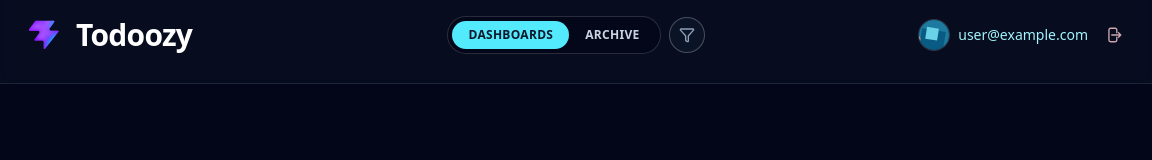
Scenario: AppHeader tag filters › shows empty message when there are no available tags
What coordinates should you click on to do the following:
click the button with test id "header-tag-filter-trigger"
I would click on:
 (686, 35)
Its box is [668,17,704,53].
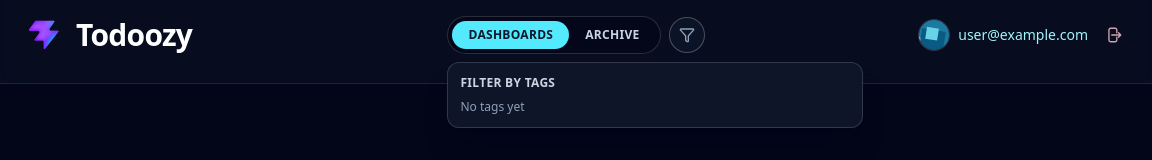
Now the text with test id "header-tag-filter-empty" reads "No tags yet", box [460,98,524,115]
